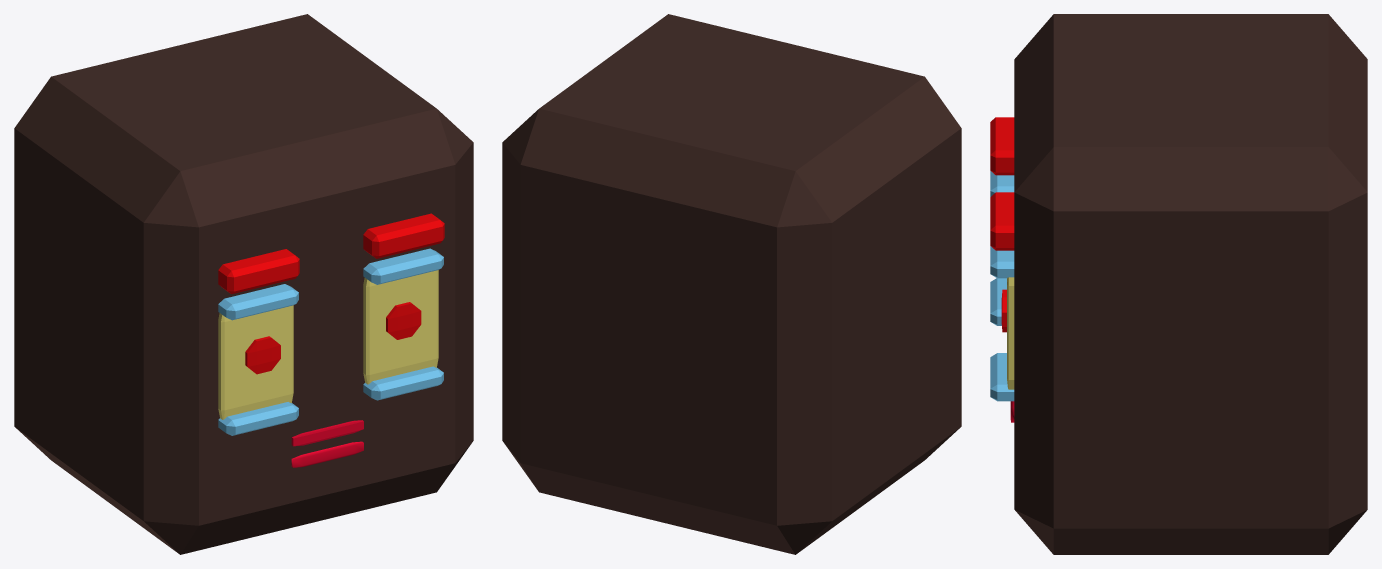
The model's file is boss11.glb.
3 views of the same model, side by side, from view 1: azimuth 30°, elevation 25°; view 2: azimuth 150°, elevation 25°; view 3: azimuth 270°, elevation 25° (orthographic). The views are drawn at different scales.
Parts seen in each view (by area): view 1: head, Cube.002, EyeBrown, lip_up, lip_up.001, eye, eyes, mouth', mouth; view 2: head; view 3: head, EyeBrown, lip_up.001, lip_up, Cube.002.
Boxes of the visible parts, box(x1,y1,x2,y2) form: head: box(14, 14, 473, 554); Cube.002: box(218, 270, 438, 419); EyeBrown: box(218, 213, 444, 294); lip_up: box(218, 248, 443, 320); lip_up.001: box(218, 366, 443, 435); eye: box(386, 302, 421, 339); eyes: box(245, 336, 280, 374); mouth': box(291, 441, 363, 467); mouth: box(291, 420, 363, 446); head: box(502, 14, 961, 554); head: box(1014, 14, 1367, 554); EyeBrown: box(990, 117, 1014, 250); lip_up.001: box(990, 278, 1014, 401); lip_up: box(990, 171, 1014, 278); Cube.002: box(1007, 277, 1014, 389).
Bounding box in the file's own units: 0.9045 × 1.01 × 0.8436.
